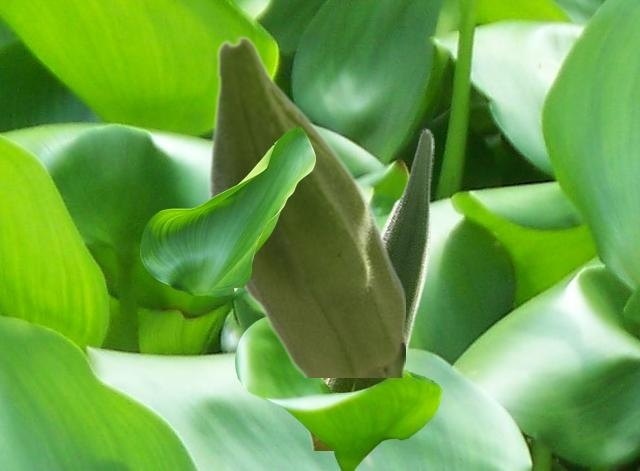okra: (207, 35, 404, 376), (305, 127, 433, 449)
